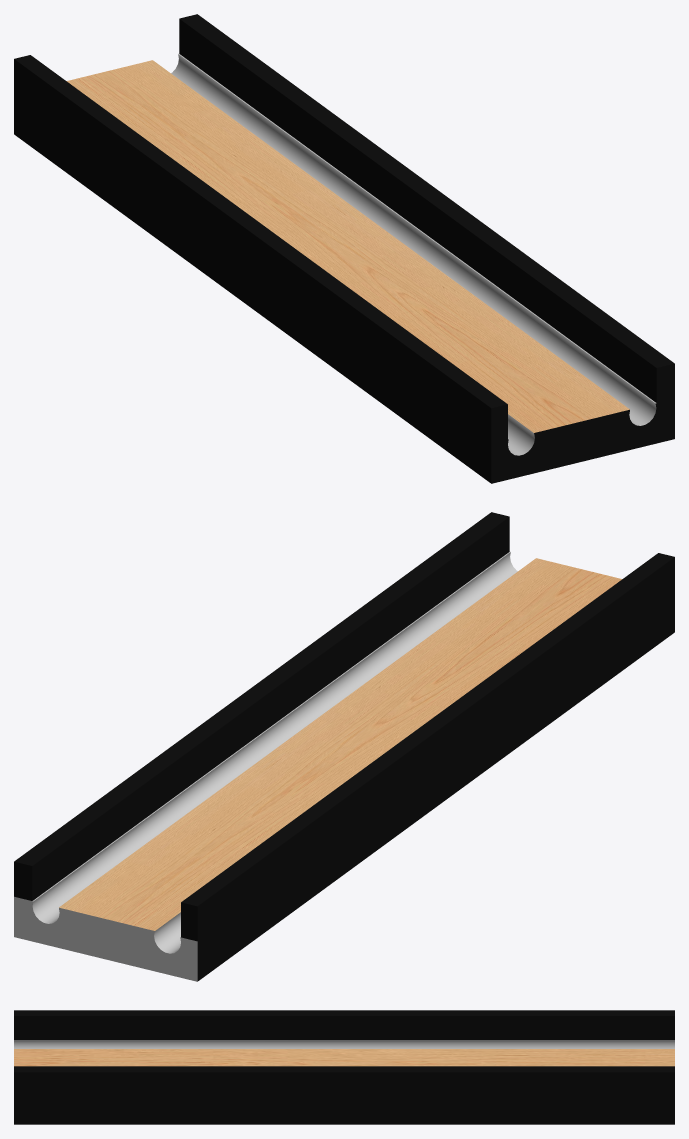
Rendered from bowling.FBX.
3 renders of one model, top to bottom at view 1: azimuth 30°, elevation 25°; view 2: azimuth 150°, elevation 25°; view 3: azimuth 270°, elevation 25°, orthographic. The views are drawn at different scales.
Visible parts, largest first — view 1: Box001; view 2: Box001; view 3: Box001.
Part boxes in pixels (bbox=[...]): Box001: bbox=[14, 14, 674, 483]; Box001: bbox=[14, 512, 674, 981]; Box001: bbox=[14, 1010, 674, 1124].
Bounding box in the file's own units: 109 × 42.67 × 489.
